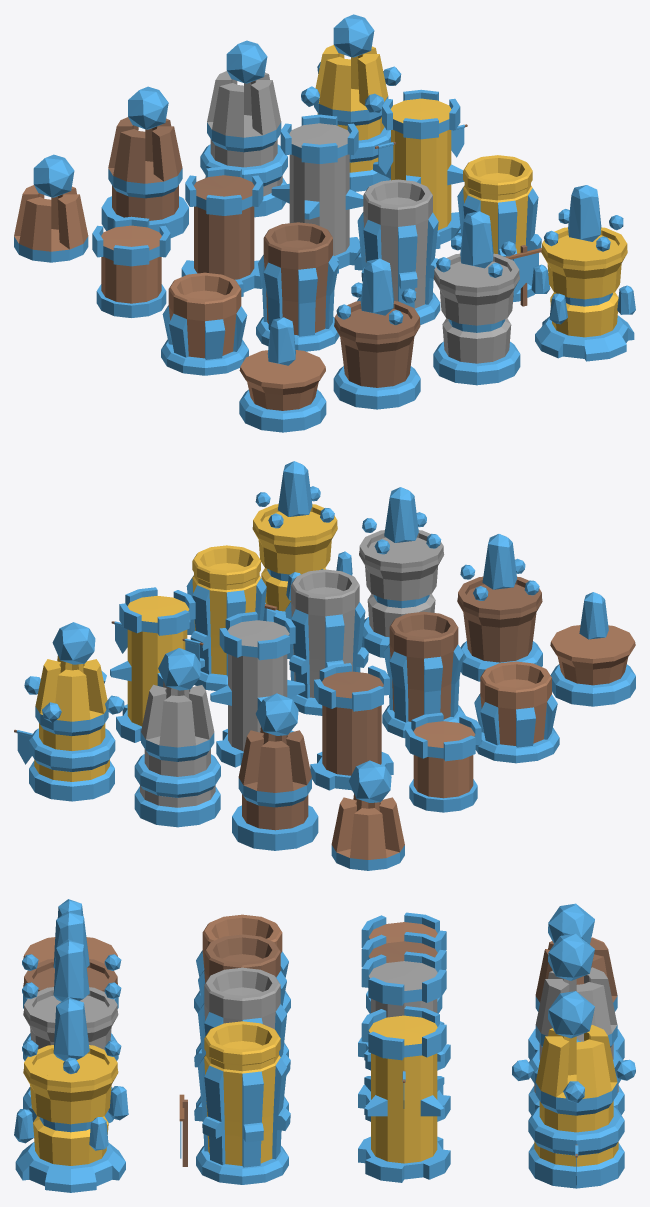
File: mage_towers_blue.fbx
3 renders of one model, top to bottom at view 1: azimuth 30°, elevation 25°; view 2: azimuth 150°, elevation 25°; view 3: azimuth 270°, elevation 25°, orthographic. The views are drawn at different scales.
Visible parts, largest first — view 1: t_1, t_3, t_2, t_4_3, t_4_2, Cylinder_7, t_2_4, t_4_1, Cylinder, Capsule, Null_1, flag_3 (+1 smaller); view 2: t_1, t_3, t_2, t_4_3, t_4_2, Cylinder, t_4_1, t_2_4, Cylinder_7, Capsule, spheres_1; view 3: t_1, Cylinder, t_2_4, Cylinder_7, t_3, t_2, t_4_3, t_4_2, Capsule, Null_1, t_4_1, spheres_1 (+1 smaller).
Boxes of the visible parts, x1,y1,x2,y2 form: t_1: (14, 14, 401, 262); t_3: (161, 179, 440, 375); t_2: (92, 114, 363, 317); t_4_3: (433, 211, 520, 385); t_4_2: (333, 258, 420, 409); Cylinder_7: (535, 227, 634, 361); t_2_4: (373, 89, 463, 248); t_4_1: (239, 317, 326, 432); Cylinder: (454, 155, 541, 301); Capsule: (568, 185, 601, 241); Null_1: (531, 264, 635, 324); flag_3: (505, 245, 541, 306); t_1: (24, 622, 404, 870); t_3: (285, 569, 559, 763); t_2: (210, 611, 481, 812); t_4_3: (359, 487, 444, 657); t_4_2: (457, 534, 542, 681); Cylinder: (186, 545, 266, 690); t_4_1: (550, 592, 635, 706); t_2_4: (110, 587, 204, 742); Cylinder_7: (252, 504, 337, 621); Capsule: (278, 461, 312, 516); spheres_1: (255, 486, 334, 528); t_1: (512, 903, 635, 1188); Cylinder: (194, 1021, 290, 1184); t_2_4: (358, 1006, 450, 1182); Cylinder_7: (15, 1045, 125, 1192); t_3: (194, 914, 290, 1121); t_2: (358, 912, 450, 1121); t_4_3: (22, 939, 121, 1122); t_4_2: (22, 911, 121, 1060); Capsule: (53, 997, 89, 1061); Null_1: (14, 1086, 128, 1150); t_4_1: (23, 899, 118, 1008); spheres_1: (22, 1040, 121, 1073).
Size of the model in its own units: 1438 by 550 by 1785.
Materials: 1 (1 with a texture image).
